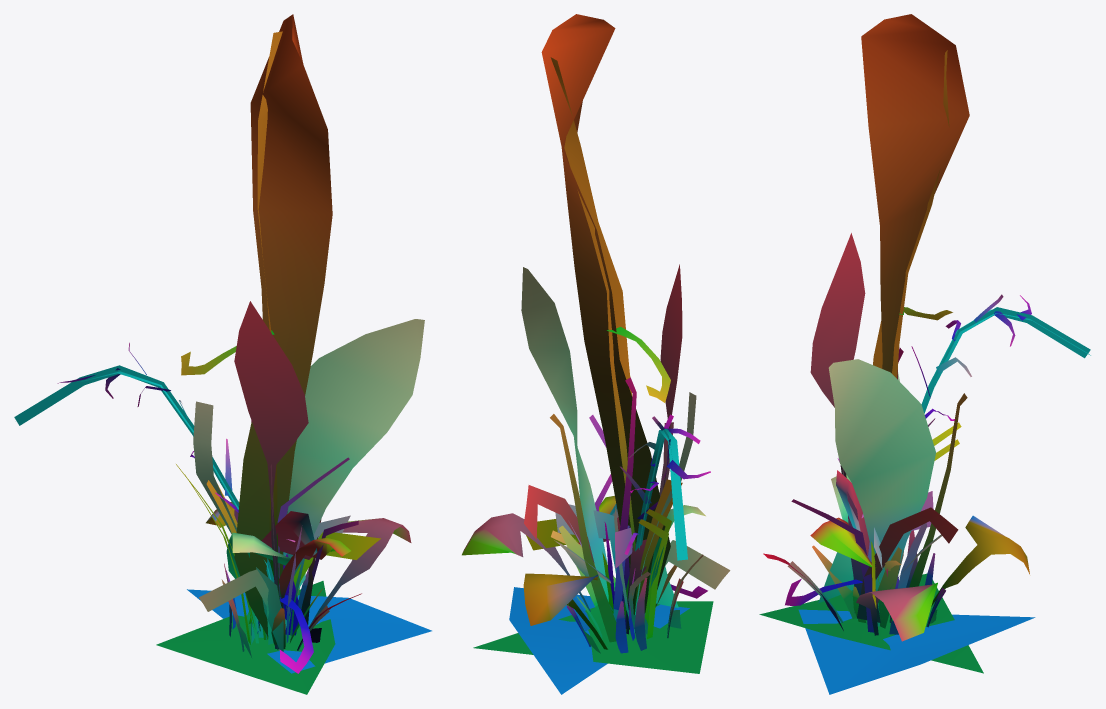
The model's file is Dry_Grass_tbbqejqr_Mid_tbbqejqr_VarB_LOD0.fbx.
The picture shows the model from 3 angles, left to right: view 1: azimuth 30°, elevation 25°; view 2: azimuth 150°, elevation 25°; view 3: azimuth 270°, elevation 25°; orthographic projection. The views are drawn at different scales.
Visible parts, largest first — view 1: _e60f_VarB_LOD1; view 2: _e60f_VarB_LOD1; view 3: _e60f_VarB_LOD1.
Boxes of the visible parts, x1,y1,x2,y2 form: _e60f_VarB_LOD1: (14, 14, 431, 694); _e60f_VarB_LOD1: (462, 14, 730, 694); _e60f_VarB_LOD1: (759, 14, 1090, 694).
Size of the model in its own units: 30.72 by 59.81 by 27.92.
